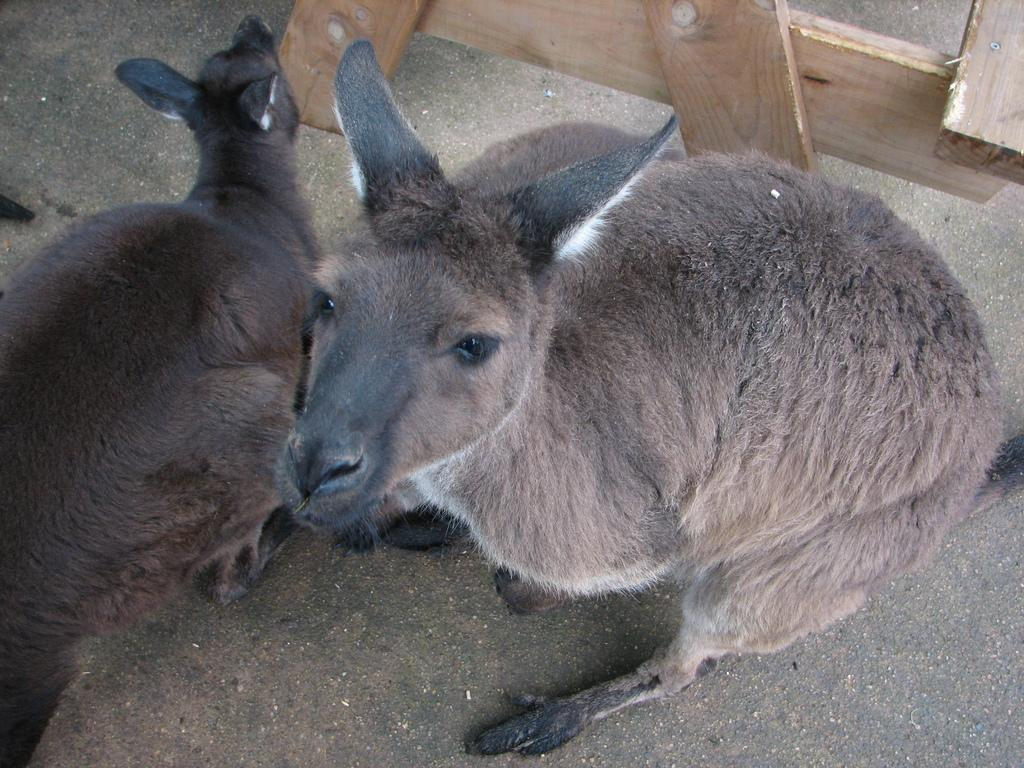kangaroo: (280, 32, 1024, 762), (0, 15, 455, 752)
